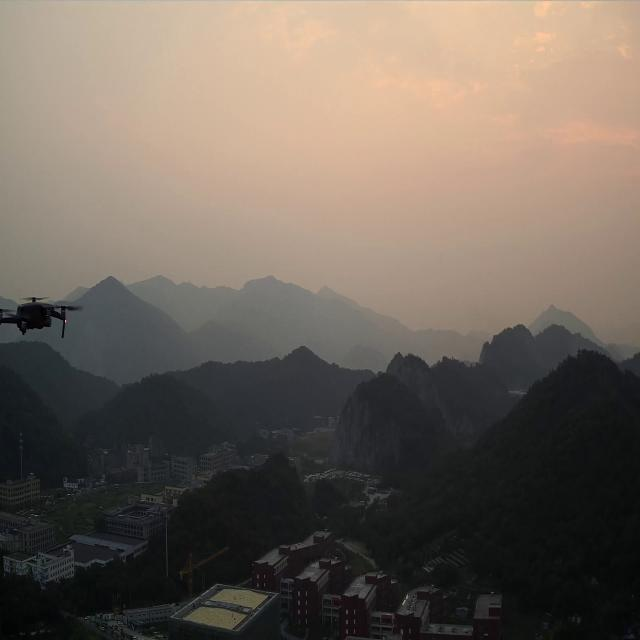UAV: (0, 293, 72, 339)
